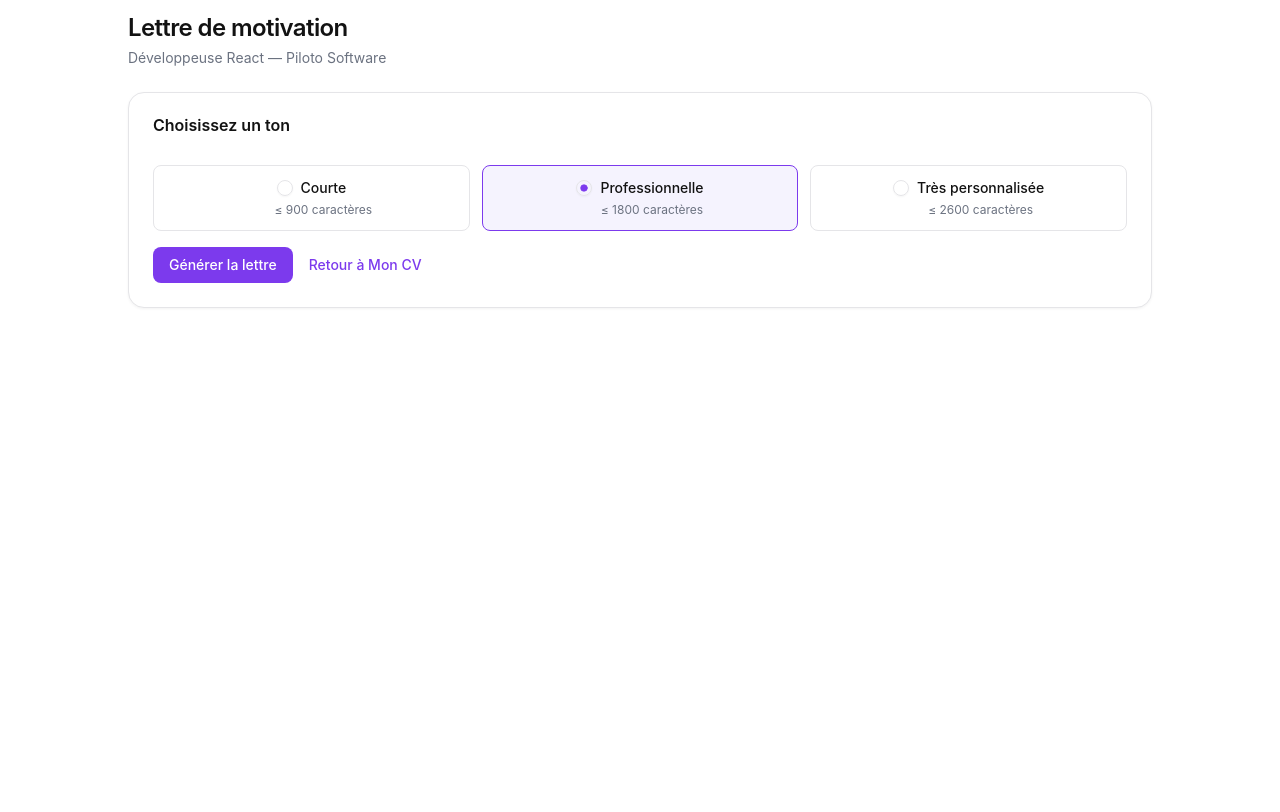
Test: CoverLetterPage — generation › appelle createLetter avec le ton choisi puis navigue vers la lettre creee
The image size is (1280, 812).
Click the radio button named "courte" next to "Courte" at (284, 188), box [276,180,292,196]
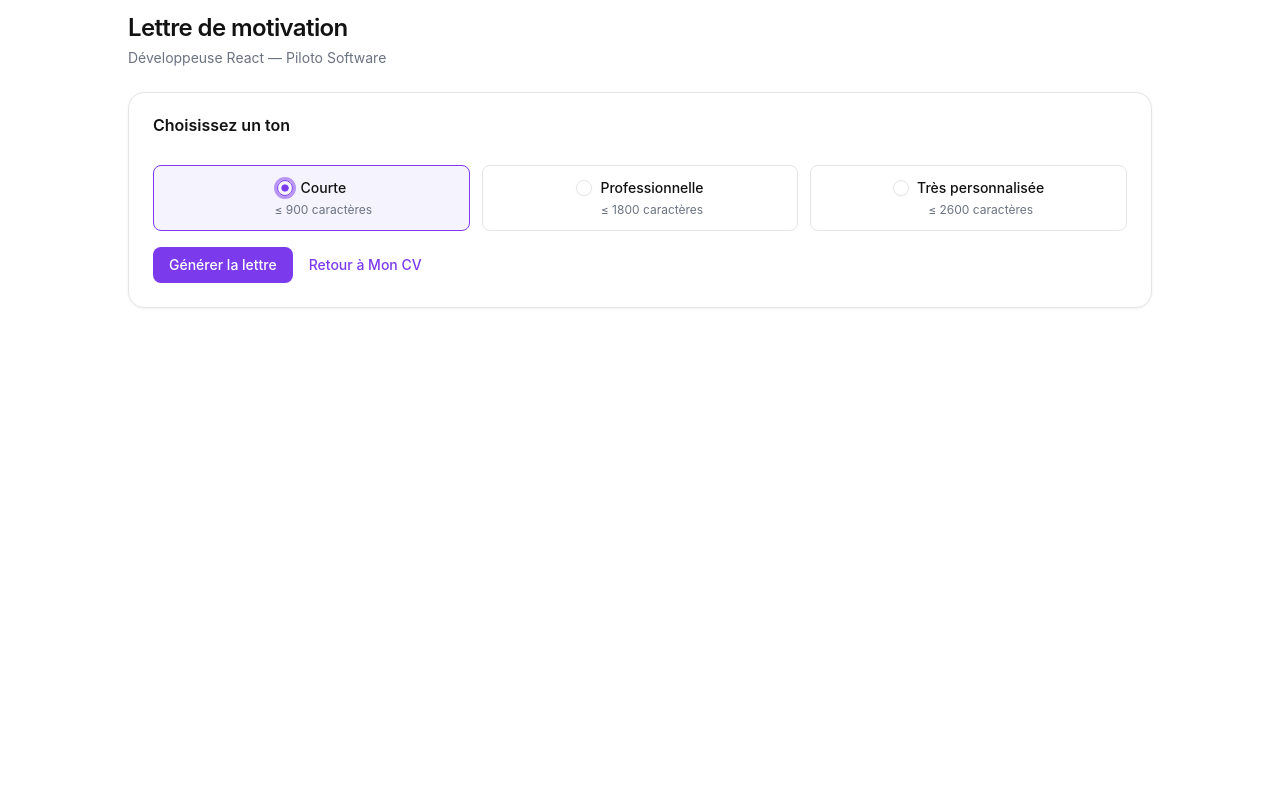
Click the button "Générer la lettre" at (223, 265), box [153,247,293,283]
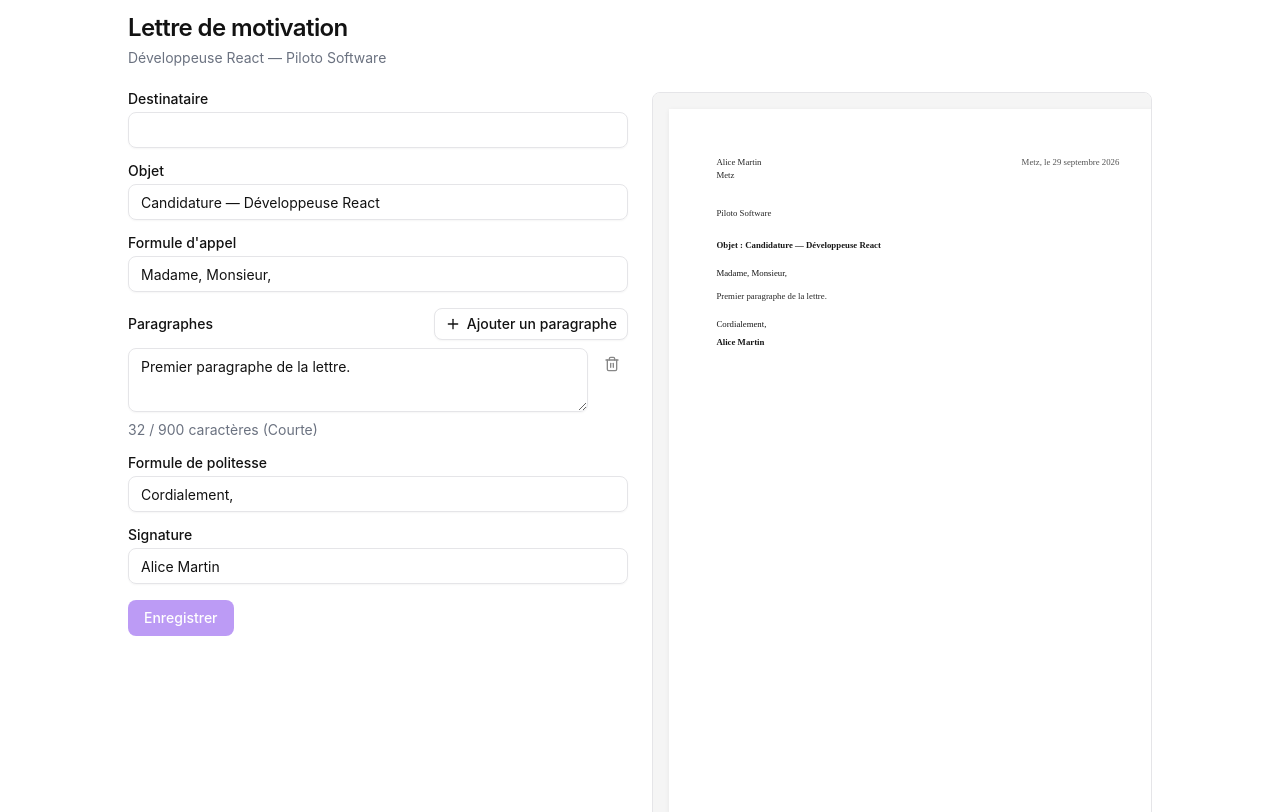
Expected: the field labelled "Objet" holds "Candidature — Développeuse React", [128,184,628,220]
